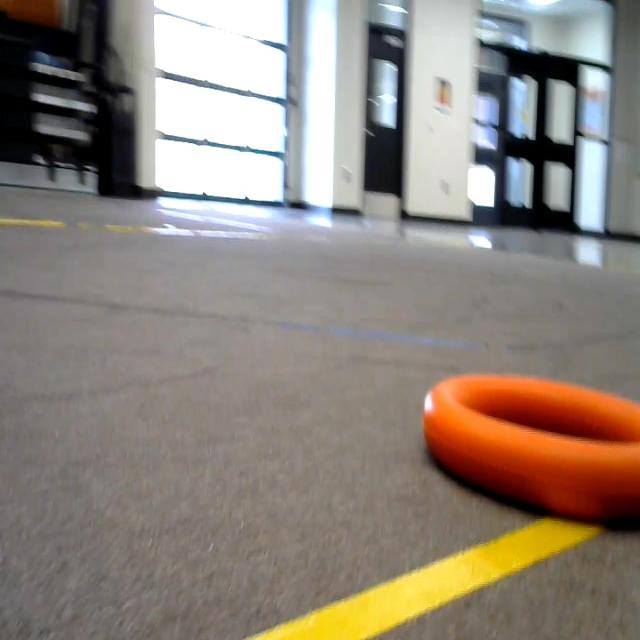note: (411, 337, 640, 539)
